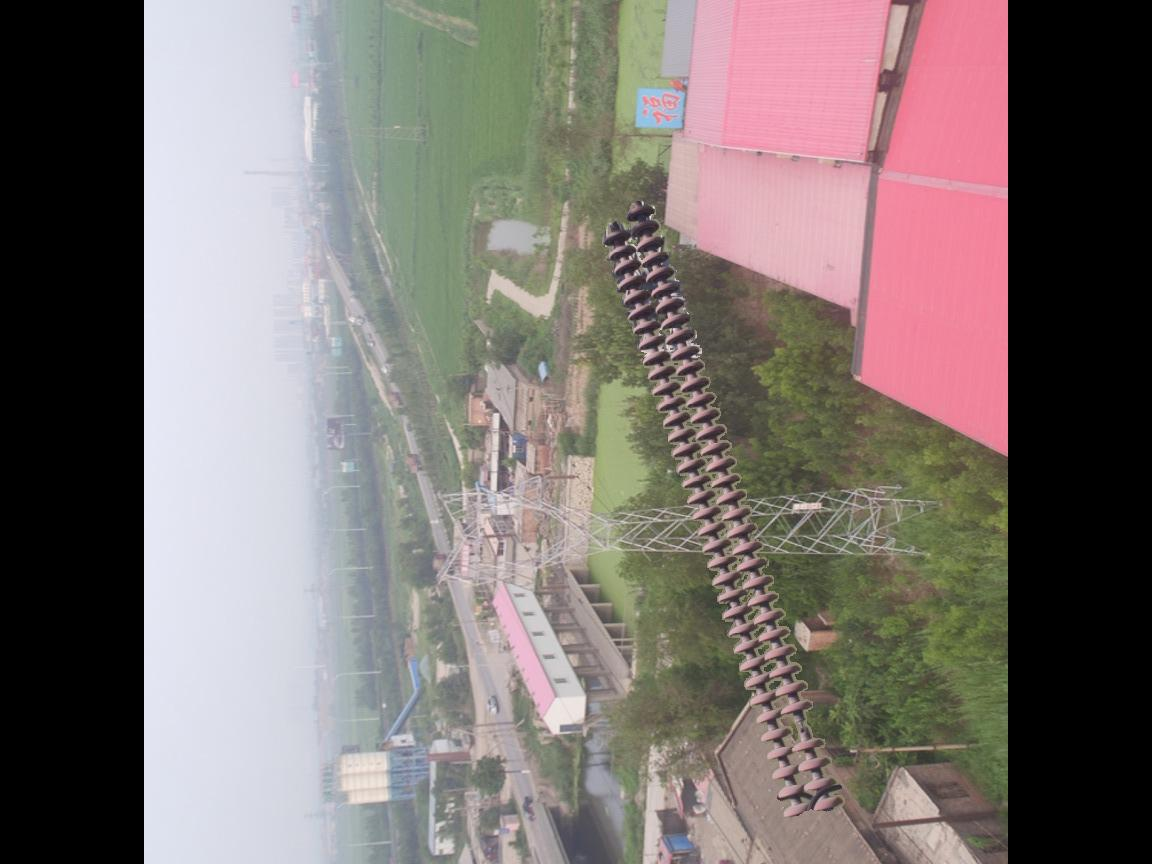insulator: (598, 196, 854, 827)
insulator_stringdrop: (778, 697, 830, 757)
